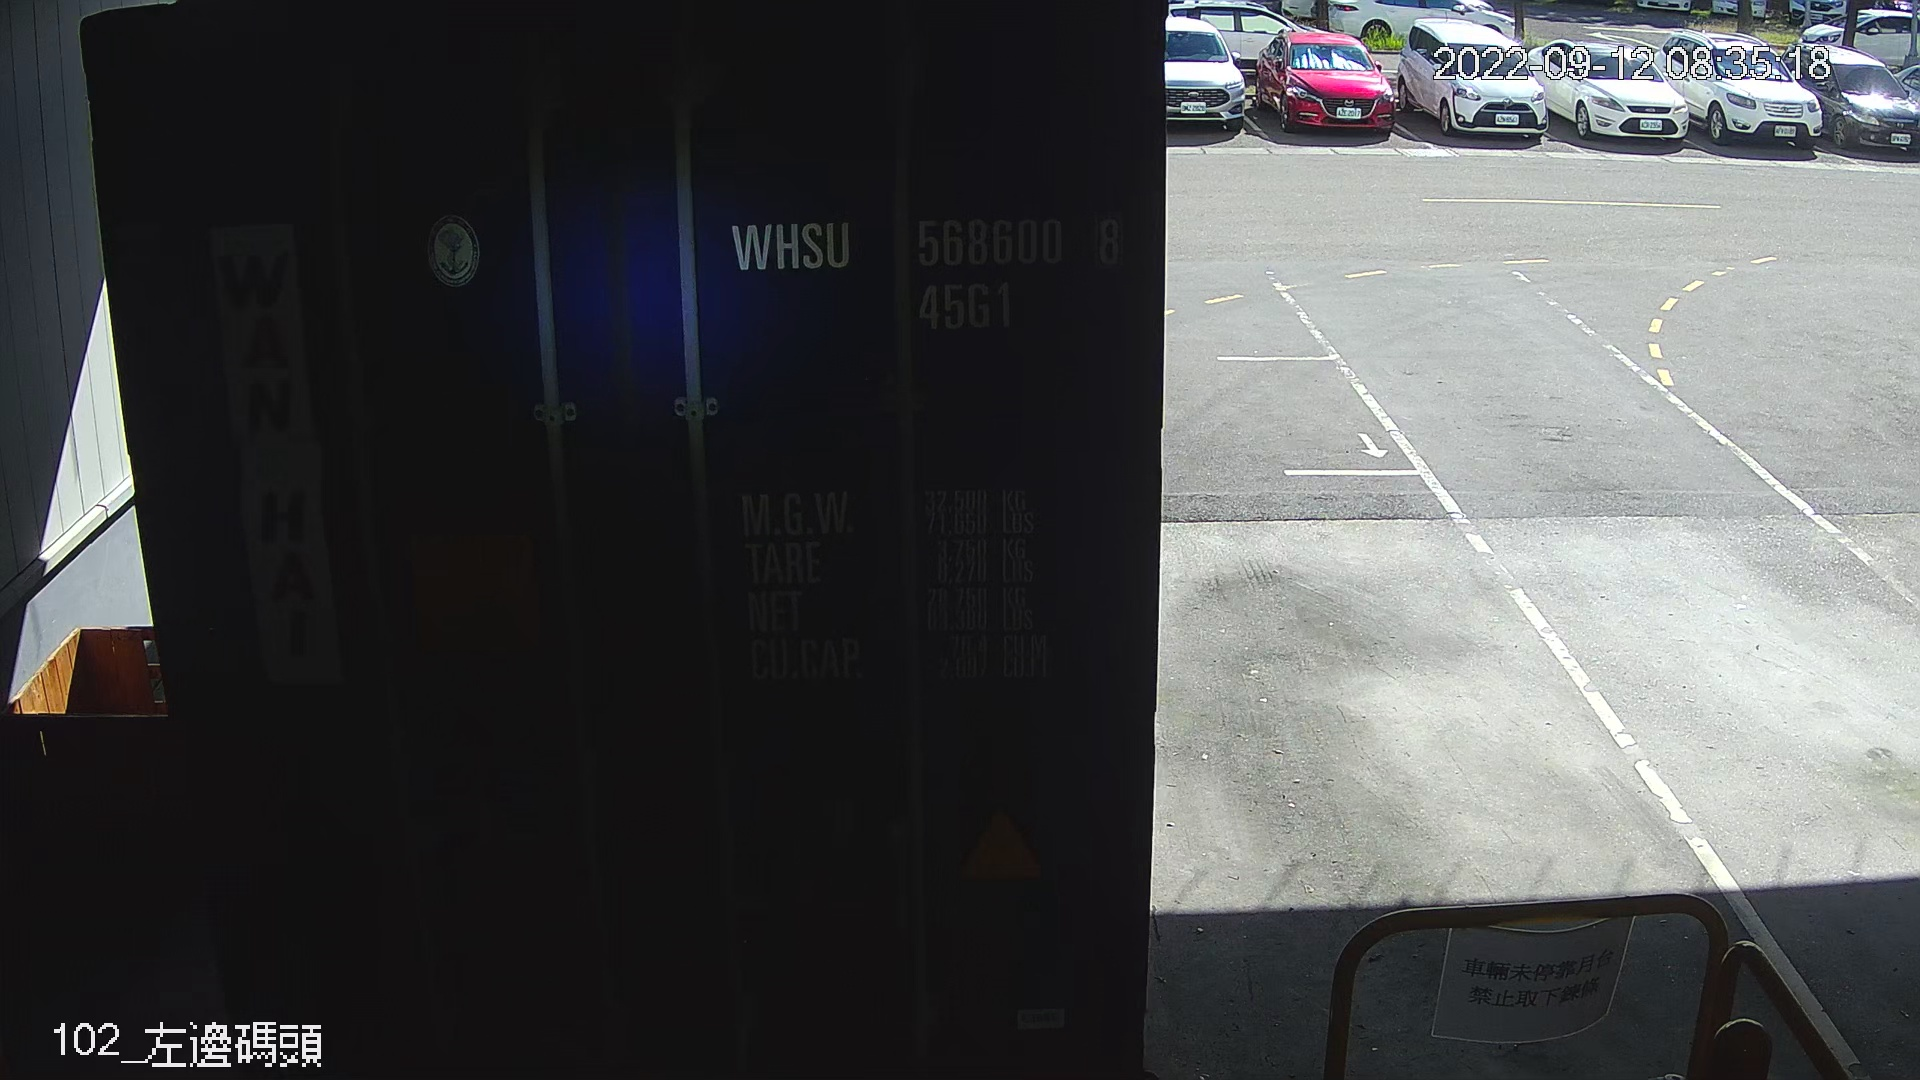container: (716, 195, 1138, 345)
